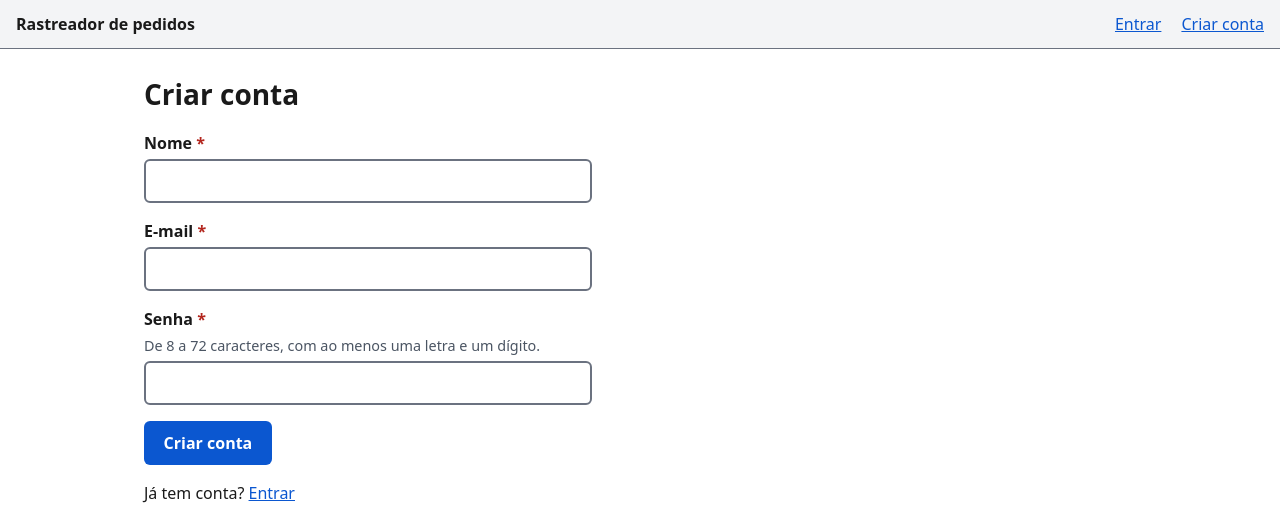
it: RegisterPage › cadastro bem-sucedido abre o login com o e-mail preenchido e anuncia a conta criada
Expected: the heading "Criar conta" is shown, [144, 75, 299, 113]
Type "Ana Souza" into the field labelled "Nome *". click: {"x": 368, "y": 181}
box: [144, 159, 592, 203]
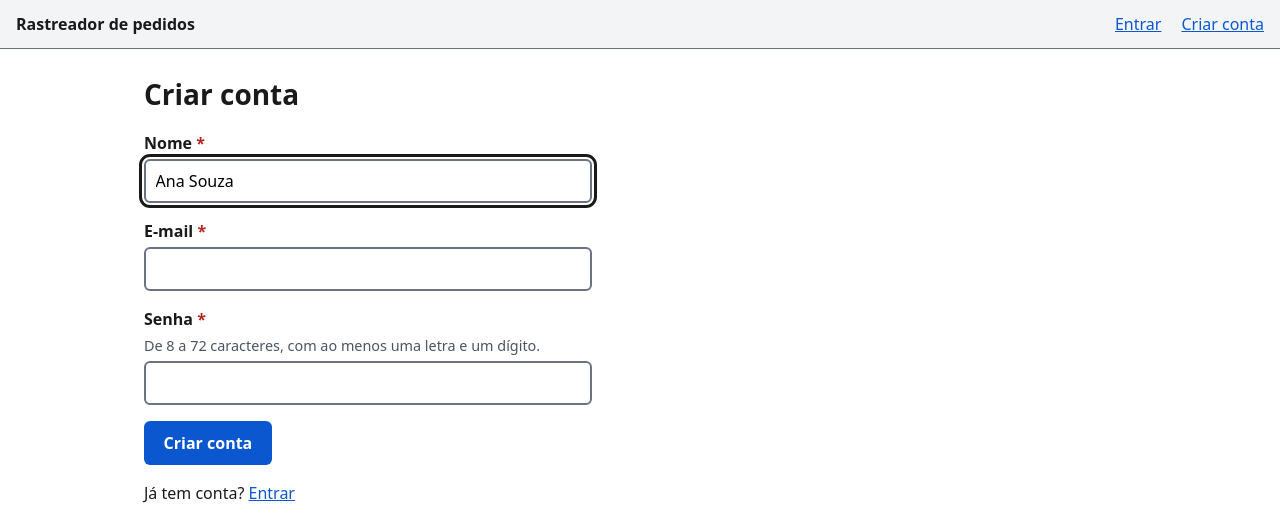
Type "ANA.Nova@Exemplo.com" into the field labelled "E-mail *". click: {"x": 368, "y": 269}
box: [144, 247, 592, 291]
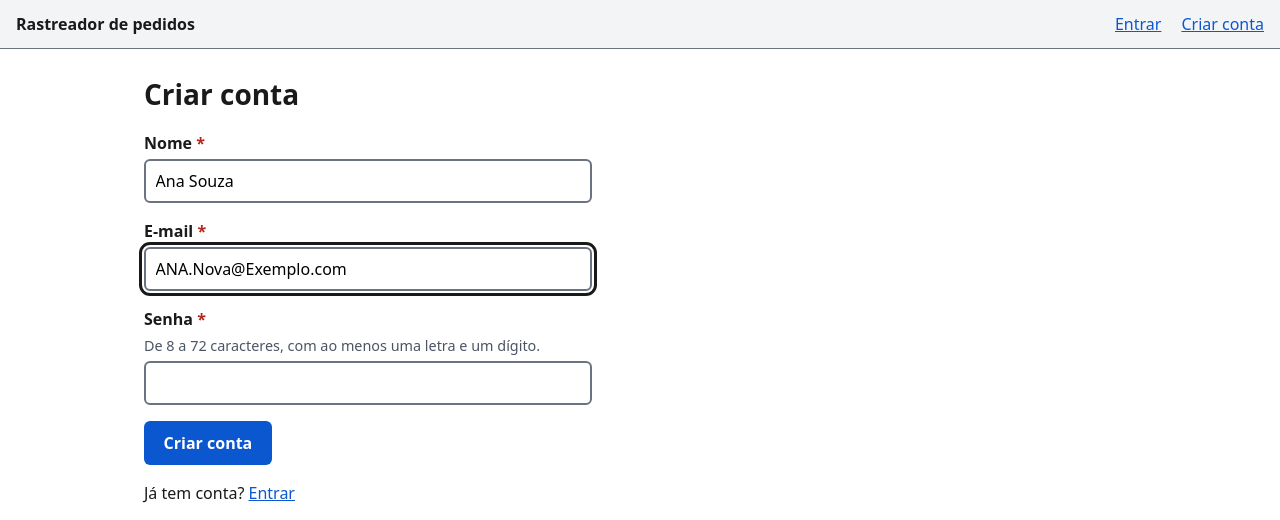
Type "segredo123" into the password field labelled "Senha *". click: {"x": 368, "y": 383}
box: [144, 361, 592, 405]
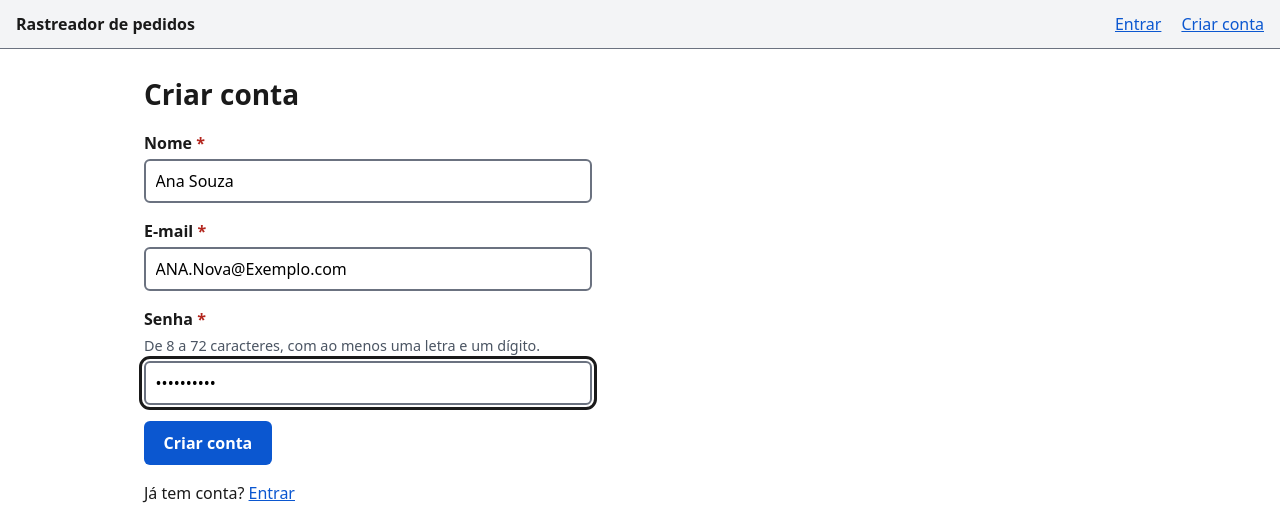
Click the button "Criar conta". click: {"x": 208, "y": 443}
box: [144, 421, 272, 465]
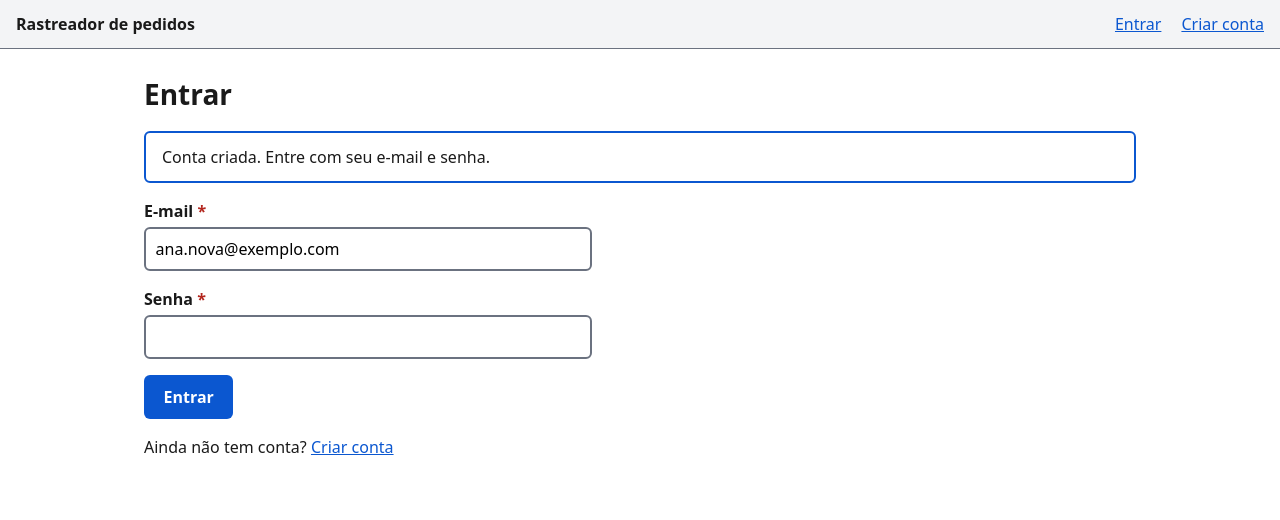
Expected: the heading "Entrar" is shown, [144, 75, 232, 113]
Expected: the field labelled "E-mail *" holds "ana.nova@exemplo.com", [144, 227, 592, 271]
Expected: the text "Conta criada. Entre com seu e-mail e senha." is shown, [144, 131, 1136, 183]
